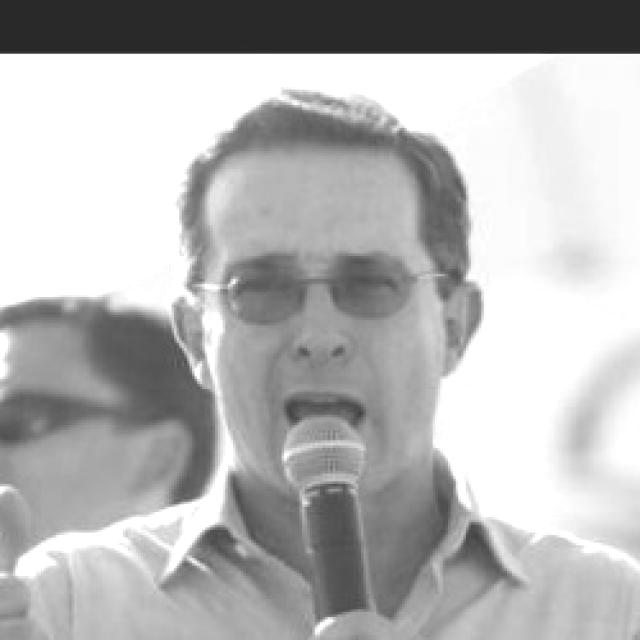real: (188, 134, 461, 512), (228, 246, 413, 314)
